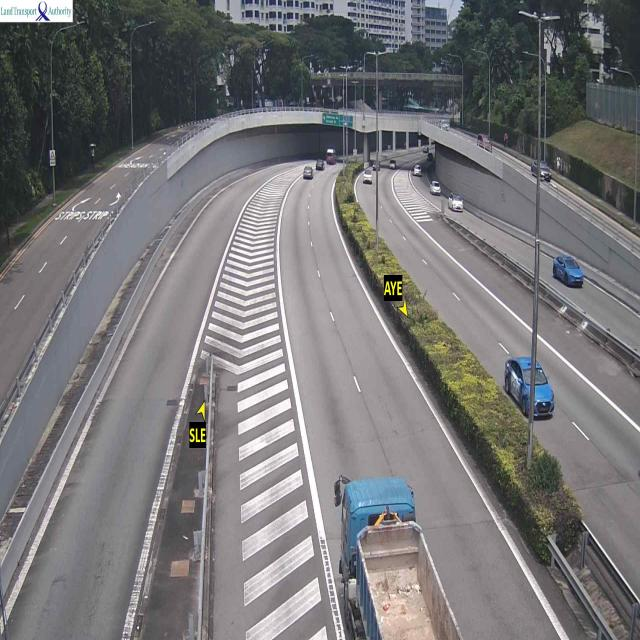vehicles: (333, 473, 464, 640), (506, 358, 558, 424), (553, 255, 586, 287), (448, 192, 468, 217), (533, 158, 551, 185), (429, 177, 444, 198), (480, 131, 492, 154), (303, 163, 315, 183), (414, 162, 424, 179), (364, 167, 373, 185), (316, 156, 326, 172)
